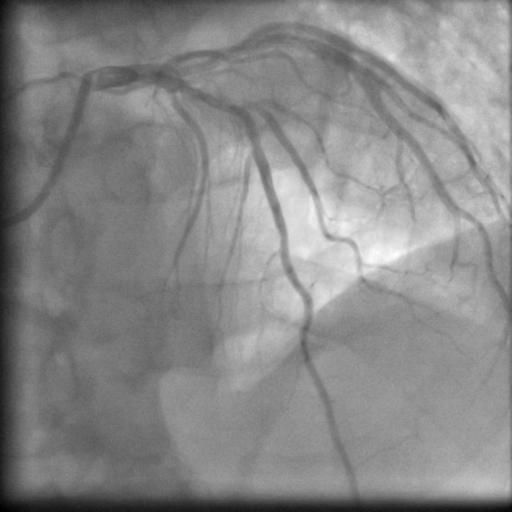Stenosis: (184, 82, 237, 113)
